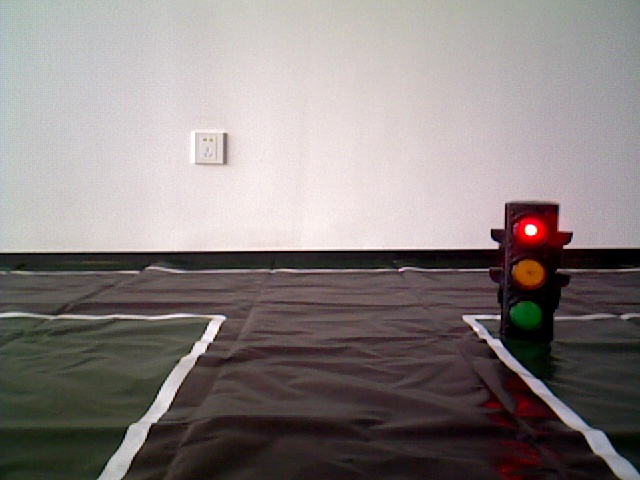red: (499, 204, 555, 334)
